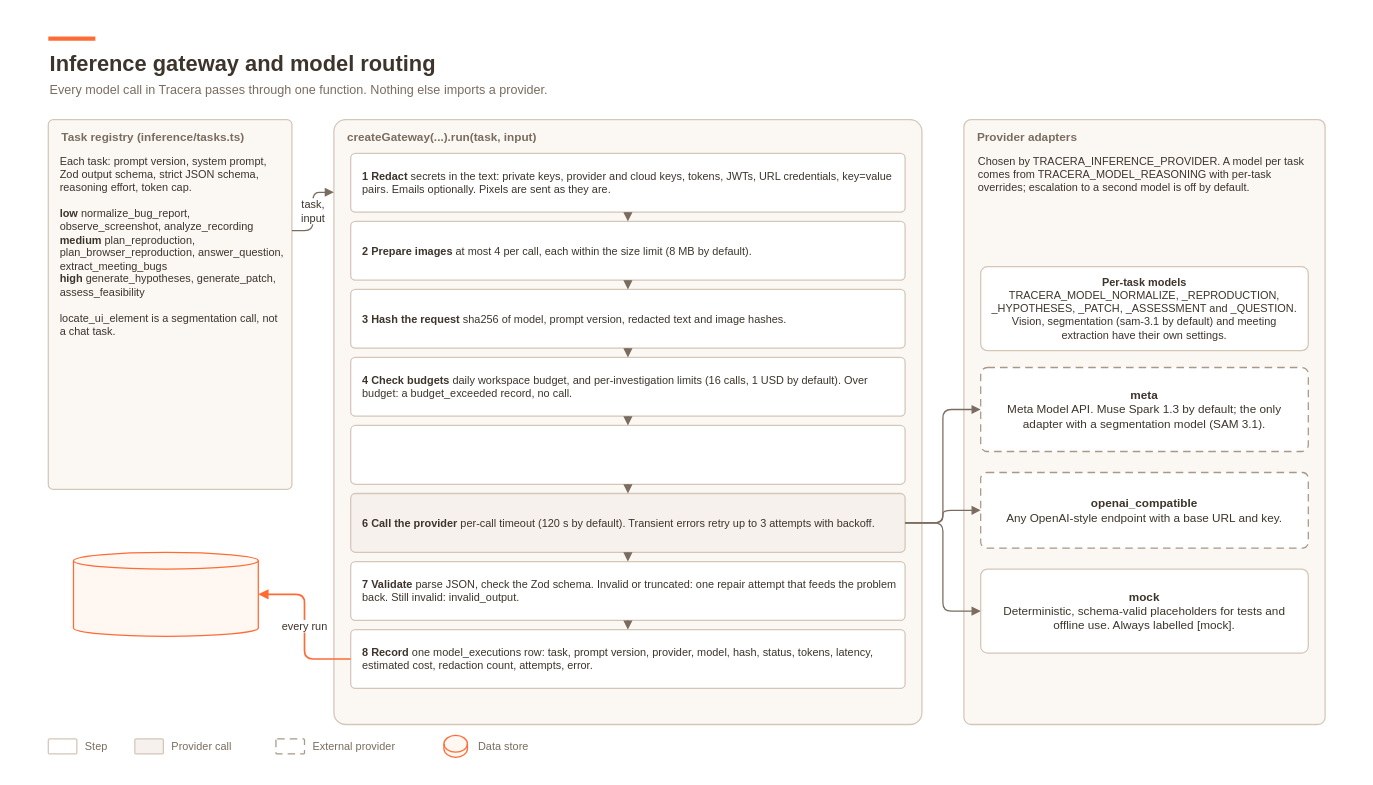
Image size: 1373x785. Some labels were removed from this diagram. Each missing label, with the centre of its shape:
5 Take a slot at most 4 concurrent calls by default.: the point at 627,454
model_executions one row per run: the point at 165,594
